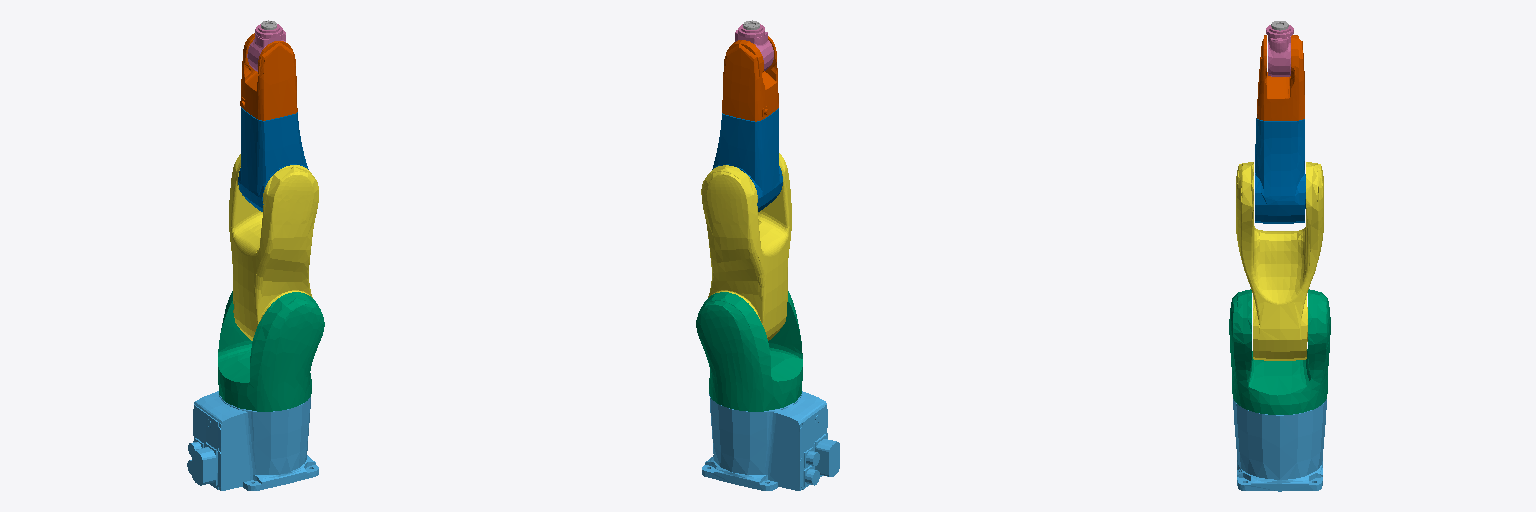
robot.urdf — r068:
<?xml version="1.0" encoding="UTF-8"?>
<robot name="r068">
	<gazebo>
		<plugin name="gazebo_ros_control" filename="libgazebo_ros_control.so">
			<robotNamespace>/r068</robotNamespace>
		</plugin>
	</gazebo>
	<link name="world"/>
	<joint name="joint_w" type="fixed">
		<parent link="world"/>
		<child link="base_link"/>
	</joint>
	<link name="base_link">
		<visual>
			<origin rpy="0 0 0" xyz="0 0 0"/>
			<geometry>
				<mesh filename="package://r068_description/base_link.stl" scale="1 1 1"/>
			</geometry>
		</visual>
		<collision>
			<origin rpy="0 0 0" xyz="0 0 0"/>
			<geometry>
				<mesh filename="package://r068_description/base_link.stl" scale="1 1 1"/>
			</geometry>
		</collision>
		<inertial>
			<mass value="1"/>
			<origin rpy="0.000000 0.000000 0.000000" xyz="0.000000 0.000000 0.000000"/>
			<inertia ixx="1" ixy="0" ixz="0" iyy="1" iyz="0" izz="1"/>
		</inertial>
	</link>
	<link name="J1">
		<visual>
			<origin rpy="0 0 0" xyz="0 0 0"/>
			<geometry>
				<mesh filename="package://r068_description/J1.stl" scale="1 1 1"/>
			</geometry>
		</visual>
		<collision>
			<origin rpy="0 0 0" xyz="0 0 0"/>
			<geometry>
				<mesh filename="package://r068_description/J1.stl" scale="1 1 1"/>
			</geometry>
		</collision>
		<inertial>
			<mass value="1"/>
			<origin rpy="0.000000 0.000000 0.000000" xyz="0.000000 0.000000 0.000000"/>
			<inertia ixx="1" ixy="0" ixz="0" iyy="1" iyz="0" izz="1"/>
		</inertial>
	</link>
	<joint name="joint_1" type="revolute">
		<parent link="base_link"/>
		<child link="J1"/>
		<origin rpy="0.000000 0.000000 0.000000" xyz="0.000000 0.000000 0.197500"/>
		<axis xyz="-0.000000 -0.000000 1.000000"/>
		<limit effort="1" lower="-2.96705972839036" upper="2.96705972839036" velocity="1"/>
		<dynamics damping="0" friction="0"/>
	</joint>
	<transmission name="trans_1">
		<type>transmission_interface/SimpleTransmission</type>
		<joint name="joint_1">
			<hardwareInterface>hardware_interface/PositionJointInterface</hardwareInterface>
		</joint>
		<actuator name="motor_1">
			<hardwareInterface>hardware_interface/PositionJointInterface</hardwareInterface>
			<mechanicalReduction>1</mechanicalReduction>
		</actuator>
	</transmission>
	<link name="J2">
		<visual>
			<origin rpy="0 0 0" xyz="0 0 0"/>
			<geometry>
				<mesh filename="package://r068_description/J2.stl" scale="1 1 1"/>
			</geometry>
		</visual>
		<collision>
			<origin rpy="0 0 0" xyz="0 0 0"/>
			<geometry>
				<mesh filename="package://r068_description/J2.stl" scale="1 1 1"/>
			</geometry>
		</collision>
		<inertial>
			<mass value="1"/>
			<origin rpy="0.000000 0.000000 0.000000" xyz="0.000000 0.000000 0.000000"/>
			<inertia ixx="1" ixy="0" ixz="0" iyy="1" iyz="0" izz="1"/>
		</inertial>
	</link>
	<joint name="joint_2" type="revolute">
		<parent link="J1"/>
		<child link="J2"/>
		<origin rpy="0.000000 0.000000 0.000000" xyz="0.030000 0.000000 0.197500"/>
		<axis xyz="-0.000000 1.000000 -0.000000"/>
		<limit effort="1" lower="-1.74532925199433" upper="2.35619449019234" velocity="1"/>
		<dynamics damping="0" friction="0"/>
	</joint>
	<transmission name="trans_2">
		<type>transmission_interface/SimpleTransmission</type>
		<joint name="joint_2">
			<hardwareInterface>hardware_interface/PositionJointInterface</hardwareInterface>
		</joint>
		<actuator name="motor_2">
			<hardwareInterface>hardware_interface/PositionJointInterface</hardwareInterface>
			<mechanicalReduction>1</mechanicalReduction>
		</actuator>
	</transmission>
	<link name="J3">
		<visual>
			<origin rpy="0 0 0" xyz="0 0 0"/>
			<geometry>
				<mesh filename="package://r068_description/J3.stl" scale="1 1 1"/>
			</geometry>
		</visual>
		<collision>
			<origin rpy="0 0 0" xyz="0 0 0"/>
			<geometry>
				<mesh filename="package://r068_description/J3.stl" scale="1 1 1"/>
			</geometry>
		</collision>
		<inertial>
			<mass value="1"/>
			<origin rpy="0.000000 0.000000 0.000000" xyz="0.000000 0.000000 0.000000"/>
			<inertia ixx="1" ixy="0" ixz="0" iyy="1" iyz="0" izz="1"/>
		</inertial>
	</link>
	<joint name="joint_3" type="revolute">
		<parent link="J2"/>
		<child link="J3"/>
		<origin rpy="0.000000 0.000000 0.000000" xyz="0.000000 0.000000 0.340000"/>
		<axis xyz="-0.000000 1.000000 -0.000000"/>
		<limit effort="1" lower="-2.0943951023932" upper="2.67035375555132" velocity="1"/>
		<dynamics damping="0" friction="0"/>
	</joint>
	<transmission name="trans_3">
		<type>transmission_interface/SimpleTransmission</type>
		<joint name="joint_3">
			<hardwareInterface>hardware_interface/PositionJointInterface</hardwareInterface>
		</joint>
		<actuator name="motor_3">
			<hardwareInterface>hardware_interface/PositionJointInterface</hardwareInterface>
			<mechanicalReduction>1</mechanicalReduction>
		</actuator>
	</transmission>
	<link name="J4">
		<visual>
			<origin rpy="0 0 0" xyz="0 0 0"/>
			<geometry>
				<mesh filename="package://r068_description/J4.stl" scale="1 1 1"/>
			</geometry>
		</visual>
		<collision>
			<origin rpy="0 0 0" xyz="0 0 0"/>
			<geometry>
				<mesh filename="package://r068_description/J4.stl" scale="1 1 1"/>
			</geometry>
		</collision>
		<inertial>
			<mass value="1"/>
			<origin rpy="0.000000 0.000000 0.000000" xyz="0.000000 0.000000 0.000000"/>
			<inertia ixx="1" ixy="0" ixz="0" iyy="1" iyz="0" izz="1"/>
		</inertial>
	</link>
	<joint name="joint_4" type="revolute">
		<parent link="J3"/>
		<child link="J4"/>
		<origin rpy="0.000000 0.000000 0.000000" xyz="-0.020000 0.000000 0.197000"/>
		<axis xyz="-0.000000 -0.000000 1.000000"/>
		<limit effort="1" lower="-4.71238898038469" upper="4.71238898038469" velocity="1"/>
		<dynamics damping="0" friction="0"/>
	</joint>
	<transmission name="trans_4">
		<type>transmission_interface/SimpleTransmission</type>
		<joint name="joint_4">
			<hardwareInterface>hardware_interface/PositionJointInterface</hardwareInterface>
		</joint>
		<actuator name="motor_4">
			<hardwareInterface>hardware_interface/PositionJointInterface</hardwareInterface>
			<mechanicalReduction>1</mechanicalReduction>
		</actuator>
	</transmission>
	<link name="J5">
		<visual>
			<origin rpy="0 0 0" xyz="0 0 0"/>
			<geometry>
				<mesh filename="package://r068_description/J5.stl" scale="1 1 1"/>
			</geometry>
		</visual>
		<collision>
			<origin rpy="0 0 0" xyz="0 0 0"/>
			<geometry>
				<mesh filename="package://r068_description/J5.stl" scale="1 1 1"/>
			</geometry>
		</collision>
		<inertial>
			<mass value="1"/>
			<origin rpy="0.000000 0.000000 0.000000" xyz="0.000000 0.000000 0.000000"/>
			<inertia ixx="1" ixy="0" ixz="0" iyy="1" iyz="0" izz="1"/>
		</inertial>
	</link>
	<joint name="joint_5" type="revolute">
		<parent link="J4"/>
		<child link="J5"/>
		<origin rpy="0.000000 0.000000 0.000000" xyz="0.000000 0.000000 0.143000"/>
		<axis xyz="-0.000000 1.000000 -0.000000"/>
		<limit effort="1" lower="-2.0943951023932" upper="2.0943951023932" velocity="1"/>
		<dynamics damping="0" friction="0"/>
	</joint>
	<transmission name="trans_5">
		<type>transmission_interface/SimpleTransmission</type>
		<joint name="joint_5">
			<hardwareInterface>hardware_interface/PositionJointInterface</hardwareInterface>
		</joint>
		<actuator name="motor_5">
			<hardwareInterface>hardware_interface/PositionJointInterface</hardwareInterface>
			<mechanicalReduction>1</mechanicalReduction>
		</actuator>
	</transmission>
	<link name="J6">
		<visual>
			<origin rpy="0 0 0" xyz="0 0 0"/>
			<geometry>
				<mesh filename="package://r068_description/J6.stl" scale="1 1 1"/>
			</geometry>
		</visual>
		<collision>
			<origin rpy="0 0 0" xyz="0 0 0"/>
			<geometry>
				<mesh filename="package://r068_description/J6.stl" scale="1 1 1"/>
			</geometry>
		</collision>
		<inertial>
			<mass value="1"/>
			<origin rpy="0.000000 0.000000 0.000000" xyz="0.000000 0.000000 0.000000"/>
			<inertia ixx="1" ixy="0" ixz="0" iyy="1" iyz="0" izz="1"/>
		</inertial>
	</link>
	<joint name="joint_6" type="revolute">
		<parent link="J5"/>
		<child link="J6"/>
		<origin rpy="0.000000 0.000000 0.000000" xyz="0.000000 0.000000 0.080000"/>
		<axis xyz="-0.000000 -0.000000 1.000000"/>
		<limit effort="1" lower="-6.28318530717959" upper="6.28318530717959" velocity="1"/>
		<dynamics damping="0" friction="0"/>
	</joint>
	<transmission name="trans_6">
		<type>transmission_interface/SimpleTransmission</type>
		<joint name="joint_6">
			<hardwareInterface>hardware_interface/PositionJointInterface</hardwareInterface>
		</joint>
		<actuator name="motor_6">
			<hardwareInterface>hardware_interface/PositionJointInterface</hardwareInterface>
			<mechanicalReduction>1</mechanicalReduction>
		</actuator>
	</transmission>
</robot>

--- What the picture shows (computed from the rendered views, not written in the file) ---
Views: 3 orthographic renders of the robot side by side, from view 1: azimuth 30°, elevation 25°; view 2: azimuth 150°, elevation 25°; view 3: azimuth 270°, elevation 25°.
Robot: r068 — 8 links, 7 joints (6 revolute, 1 fixed); root link world; default pose: every joint at zero.
Links seen in each view (by area): view 1: J2, base_link, J1, J3, J4, J5; view 2: J2, base_link, J1, J3, J4, J5; view 3: J2, J1, base_link, J3, J4, J5.
Boxes of the visible links, left/top/right/bottom form: J2: left=229, top=154, right=318, bottom=340; base_link: left=187, top=391, right=318, bottom=490; J1: left=218, top=291, right=324, bottom=411; J3: left=238, top=107, right=308, bottom=211; J4: left=240, top=33, right=297, bottom=120; J5: left=247, top=24, right=285, bottom=71; J2: left=701, top=153, right=791, bottom=340; base_link: left=702, top=391, right=839, bottom=490; J1: left=696, top=291, right=802, bottom=411; J3: left=712, top=108, right=782, bottom=211; J4: left=722, top=36, right=778, bottom=121; J5: left=735, top=24, right=773, bottom=70; J2: left=1236, top=162, right=1323, bottom=360; J1: left=1229, top=289, right=1330, bottom=414; base_link: left=1233, top=399, right=1326, bottom=491; J3: left=1255, top=118, right=1305, bottom=223; J4: left=1257, top=35, right=1304, bottom=120; J5: left=1266, top=25, right=1293, bottom=76.
Bounding box of the posed robot: 0.3155 × 0.235 × 1.16 m (x, y, z).
7 mesh visuals loaded from 7 distinct referenced files (7 binary STL).